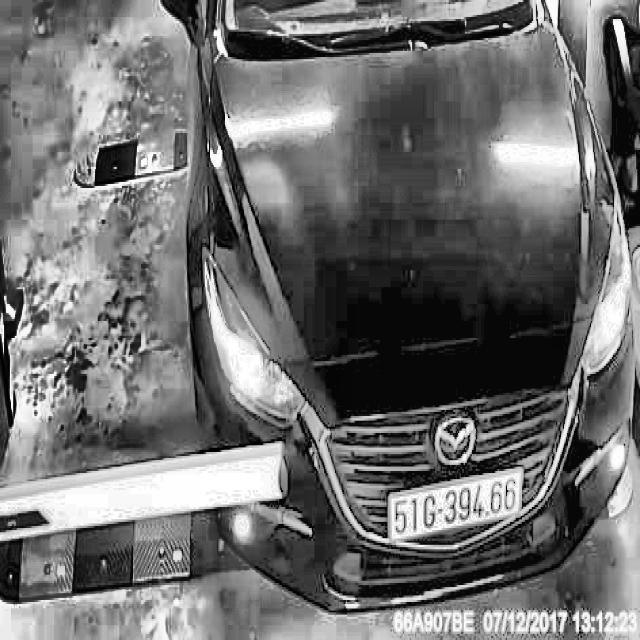plate: (386, 462, 526, 548)
